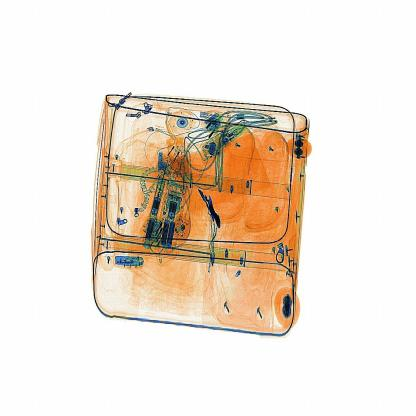wrench: (193, 178, 228, 231)
